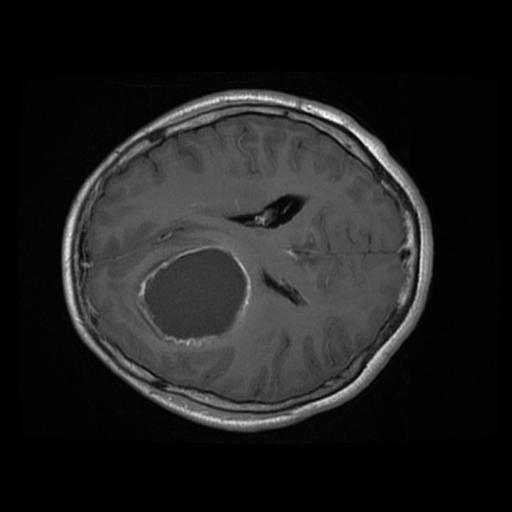glioma: (135, 244, 252, 347)
